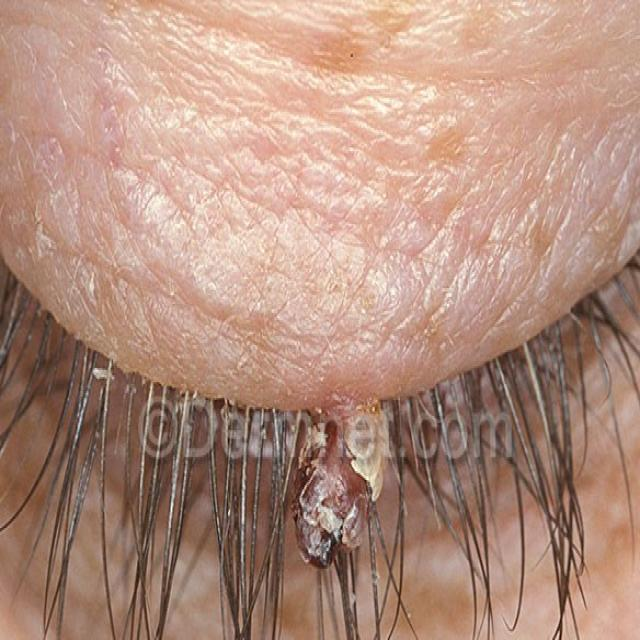Warts: (293, 392, 397, 577)
